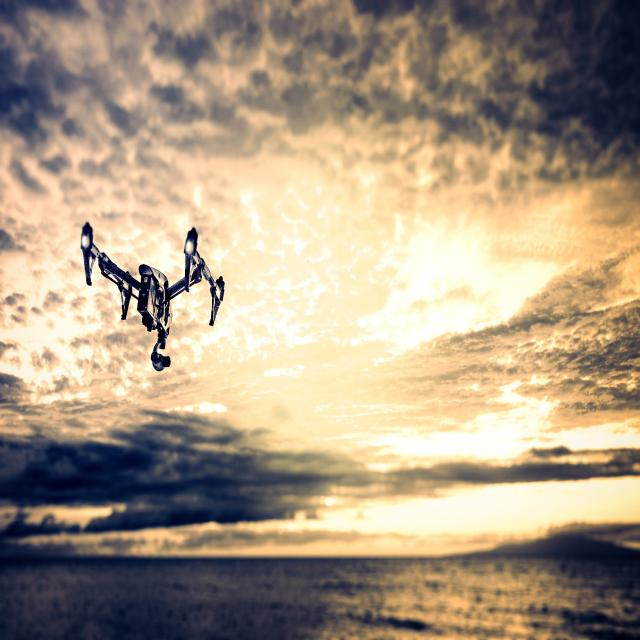drone: (71, 215, 233, 372)
